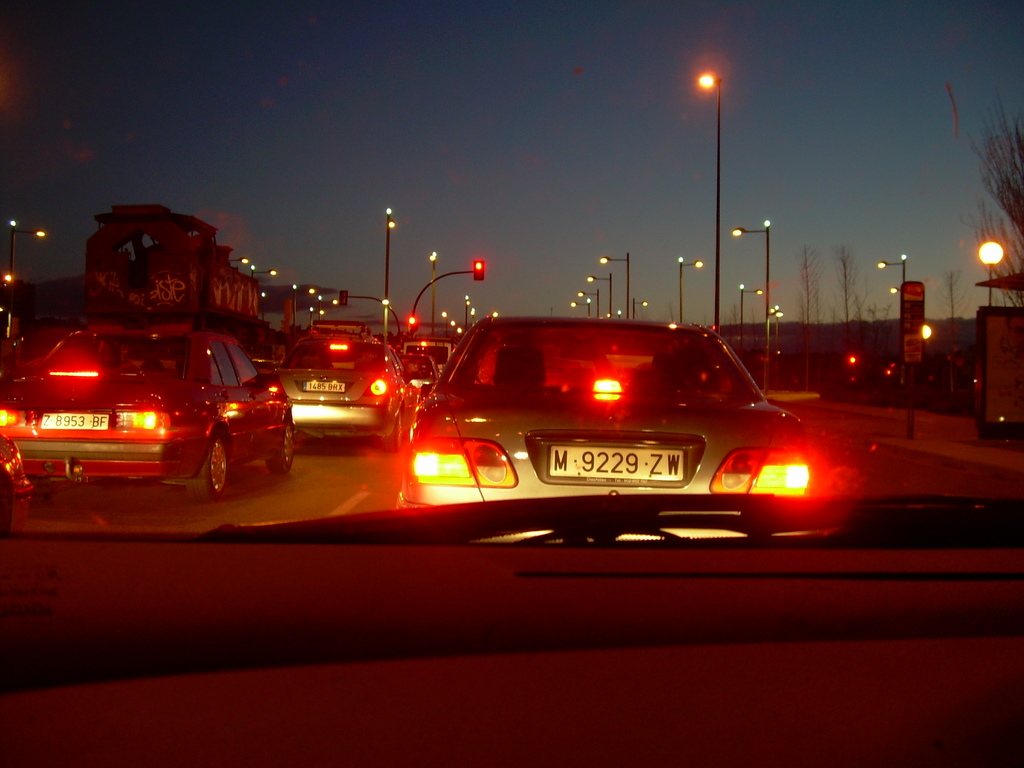Car: (0, 308, 1023, 764)
